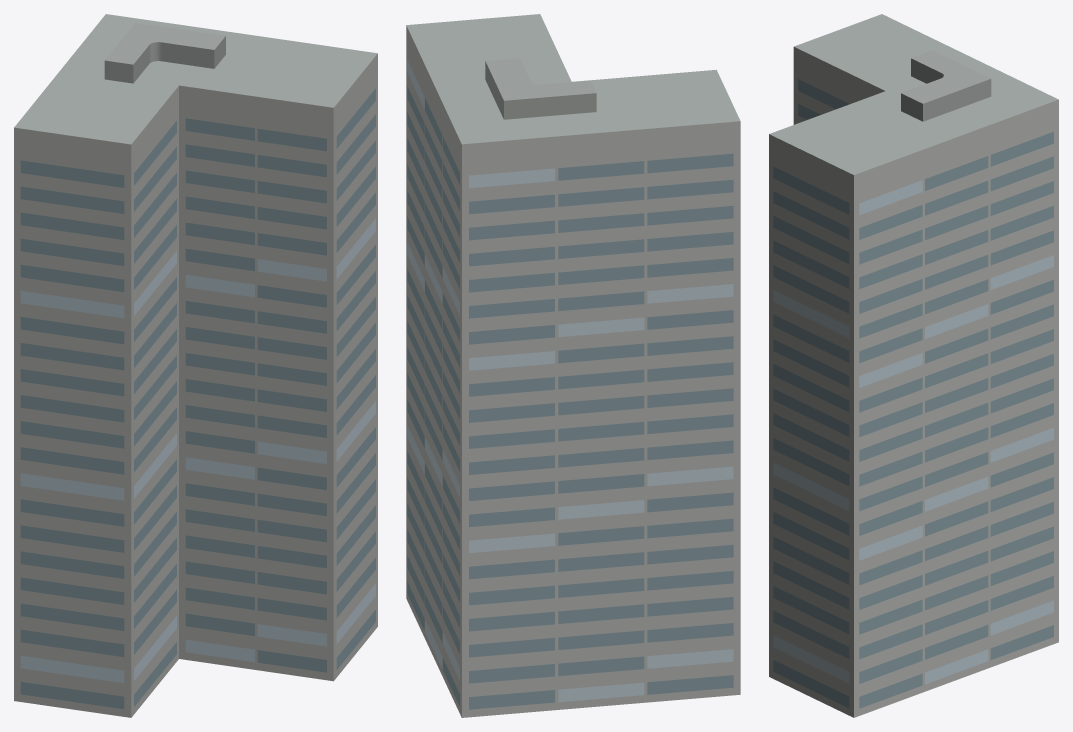
The model's file is apt-a10020749.glb.
The picture shows the model from 3 angles, left to right: view 1: azimuth 30°, elevation 25°; view 2: azimuth 150°, elevation 25°; view 3: azimuth 270°, elevation 25°; orthographic projection. The views are drawn at different scales.
Parts seen in each view (by area): view 1: apt-a10020749; view 2: apt-a10020749; view 3: apt-a10020749.
Part boxes in pixels (bbox=[...]): apt-a10020749: bbox=[14, 14, 377, 717]; apt-a10020749: bbox=[406, 14, 740, 717]; apt-a10020749: bbox=[769, 14, 1058, 717].
Size of the model in its own units: 46.24 by 75 by 35.14.
